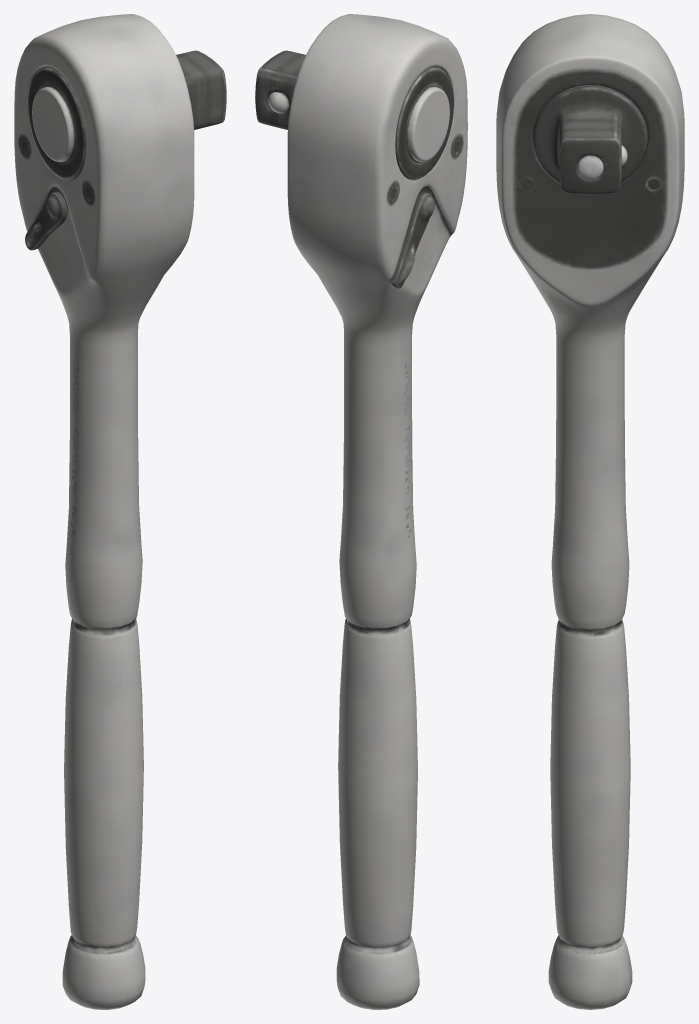
The model's file is ratchet_wrench.glb.
3 renders of one model, left to right at view 1: azimuth 30°, elevation 25°; view 2: azimuth 150°, elevation 25°; view 3: azimuth 270°, elevation 25°, orthographic.
Visible parts, largest first — view 1: ratchet_wrench; view 2: ratchet_wrench; view 3: ratchet_wrench.
Boxes of the visible parts, <box> form: ratchet_wrench: <box>14,14,226,1009</box>; ratchet_wrench: <box>255,14,467,1009</box>; ratchet_wrench: <box>496,14,684,1009</box>.
Bounding box in the file's own units: 0.0441 × 0.2462 × 0.0434.
Materials: 1 (1 with a texture image).
